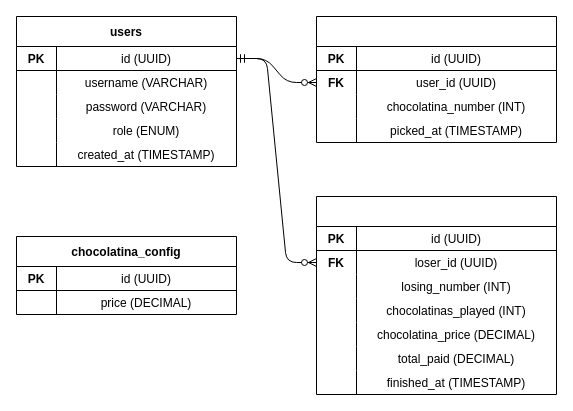
The diagram is 573 pixels wide and 411 high, and some of its shapes have lost their labels. Here are the shapes that lost their labels. From the top down, the box of each, then its label:
(316, 16, 556, 142): current_game_records
(316, 196, 556, 394): finished_games
